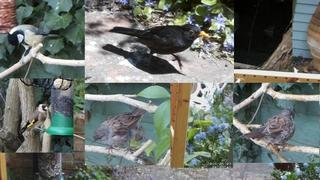blackbird: (109, 24, 210, 74)
dunnock: (91, 107, 146, 156), (239, 107, 295, 151)
goldfinch: (19, 102, 49, 135)
great tit: (7, 24, 61, 65)
